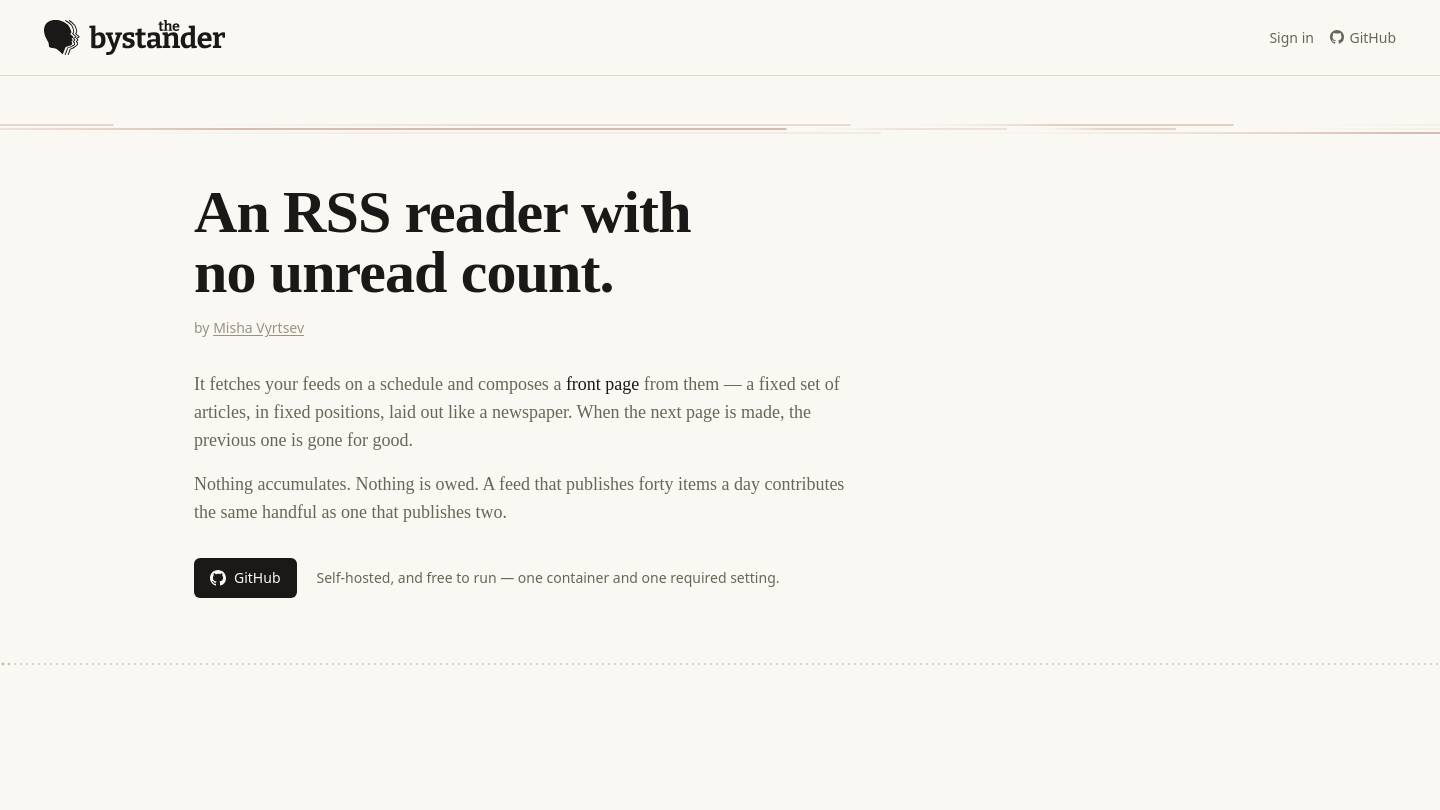
it: LandingPage › offers a way in from the header and from the page
The width and height of the screenshot is (1440, 810).
Click the button "Sign in": coordinates (1292, 38) [1269,28,1314,48]
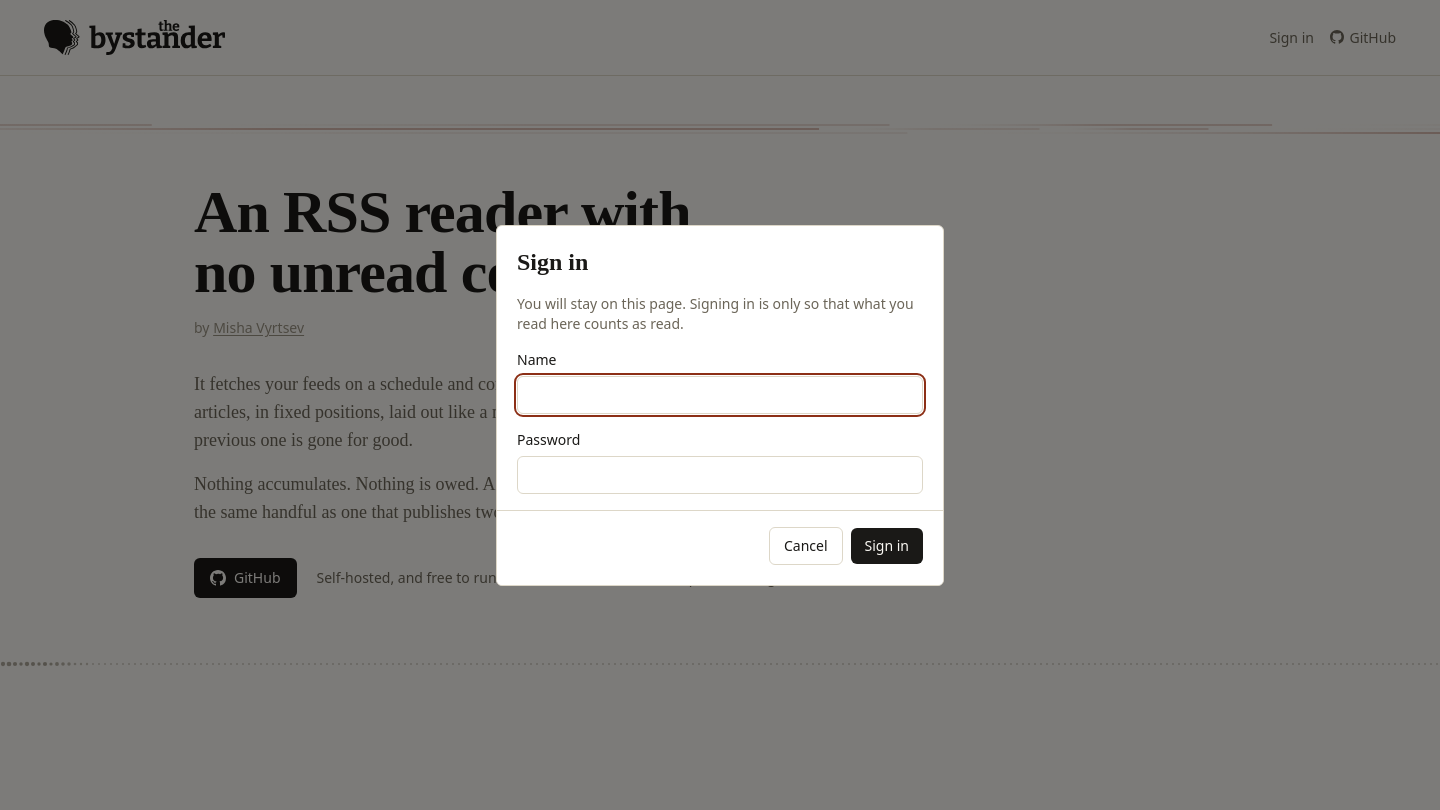
Check: the field labelled "Name" is shown, box [517,376,923,414]
